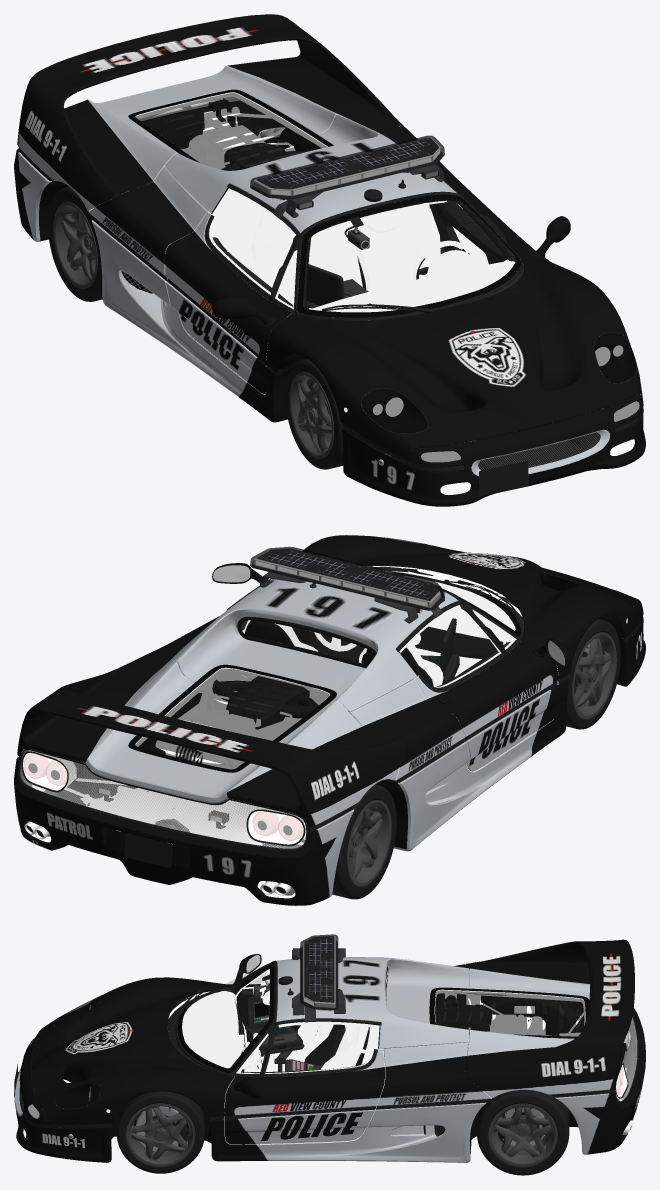
The model's file is patrulha.glb.
The picture shows the model from 3 angles, top to bottom: view 1: azimuth 30°, elevation 25°; view 2: azimuth 150°, elevation 25°; view 3: azimuth 270°, elevation 25°; orthographic projection. The views are drawn at different scales.
Parts seen in each view (by area): view 1: f50:cop_ferrari_f50_1995_enforcer_Mesh_lod0M_Paint_Carbon_Hi, f50:cop_ferrari_f50_1995_enforcer_Mesh_lod0M_Internal_Engine, f50:cop_ferrari_f50_1995_enforcer_Mesh_lod0M_Opaque_PlasticS, f50:cop_ferrari_f50_1995_enforcer_Mesh_lod0M_Glass_Lights_Hi, f50:cop_ferrari_f50_1995_enforcer_Mesh_lod0M_Rim_High_rim_0, f50:cop_ferrari_f50_1995_enforcer_Mesh_lod0M_CarbonB_High_ca, f50:cop_ferrari_f50_1995_enforcer_Mesh_lod0M_Glass_Mirrors_H, f50:cop_ferrari_f50_1995_enforcer_Mesh_lod0M_CopProps_High_c, f50:M_Tire_Highcop_ferrari_f50_1995_enforcer_Mesh_lod0_tire_, f50:cop_ferrari_f50_1995_enforcer_Mesh_lod0M_Chassis_High_ch, f50:cop_ferrari_f50_1995_enforcer_Mesh_lod0M_LightRefracted_, f50:cop_ferrari_f50_1995_enforcer_Mesh_lod0M_CopLights_High_; view 2: f50:cop_ferrari_f50_1995_enforcer_Mesh_lod0M_Paint_Carbon_Hi, f50:cop_ferrari_f50_1995_enforcer_Mesh_lod0M_Internal_Engine, f50:cop_ferrari_f50_1995_enforcer_Mesh_lod0M_Opaque_PlasticS, f50:cop_ferrari_f50_1995_enforcer_Mesh_lod0M_Glass_Lights_Hi, f50:cop_ferrari_f50_1995_enforcer_Mesh_lod0M_CarbonB_High_ca, f50:cop_ferrari_f50_1995_enforcer_Mesh_lod0M_GrilleA_High_gr, f50:cop_ferrari_f50_1995_enforcer_Mesh_lod0M_Rim_High_rim_0, f50:M_Tire_Highcop_ferrari_f50_1995_enforcer_Mesh_lod0_tire_, f50:cop_ferrari_f50_1995_enforcer_Mesh_lod0M_Glass_Mirrors_H (×2), f50:cop_ferrari_f50_1995_enforcer_Mesh_lod0M_CopProps_High_c, f50:cop_ferrari_f50_1995_enforcer_Mesh_lod0M_Chassis_High_ch, f50:cop_ferrari_f50_1995_enforcer_Mesh_lod0M_LightCluster_Hi (+2 smaller); view 3: f50:cop_ferrari_f50_1995_enforcer_Mesh_lod0M_Paint_Carbon_Hi, f50:cop_ferrari_f50_1995_enforcer_Mesh_lod0M_Internal_Engine, f50:cop_ferrari_f50_1995_enforcer_Mesh_lod0M_Opaque_PlasticS, f50:cop_ferrari_f50_1995_enforcer_Mesh_lod0M_Glass_Lights_Hi, f50:cop_ferrari_f50_1995_enforcer_Mesh_lod0M_Rim_High_rim_0, f50:cop_ferrari_f50_1995_enforcer_Mesh_lod0M_CarbonB_High_ca, f50:M_Tire_Highcop_ferrari_f50_1995_enforcer_Mesh_lod0_tire_, f50:cop_ferrari_f50_1995_enforcer_Mesh_lod0M_CopProps_High_c, f50:cop_ferrari_f50_1995_enforcer_Mesh_lod0M_Glass_Mirrors_H, f50:cop_ferrari_f50_1995_enforcer_Mesh_lod0M_Chassis_High_ch, f50:cop_ferrari_f50_1995_enforcer_Mesh_lod0M_BrakeDisc_High_, f50:cop_ferrari_f50_1995_enforcer_Mesh_lod0M_GrilleA_High_gr.
Boxes of the visible parts, box(x1,y1,x2,y2) form: f50:cop_ferrari_f50_1995_enforcer_Mesh_lod0M_Paint_Carbon_Hi: box(14, 14, 645, 506); f50:cop_ferrari_f50_1995_enforcer_Mesh_lod0M_Internal_Engine: box(89, 92, 640, 494); f50:cop_ferrari_f50_1995_enforcer_Mesh_lod0M_Opaque_PlasticS: box(18, 89, 640, 495); f50:cop_ferrari_f50_1995_enforcer_Mesh_lod0M_Glass_Lights_Hi: box(136, 93, 639, 464); f50:cop_ferrari_f50_1995_enforcer_Mesh_lod0M_Rim_High_rim_0: box(53, 202, 333, 458); f50:cop_ferrari_f50_1995_enforcer_Mesh_lod0M_CarbonB_High_ca: box(39, 127, 524, 320); f50:cop_ferrari_f50_1995_enforcer_Mesh_lod0M_Glass_Mirrors_H: box(128, 89, 520, 317); f50:cop_ferrari_f50_1995_enforcer_Mesh_lod0M_CopProps_High_c: box(220, 117, 440, 464); f50:M_Tire_Highcop_ferrari_f50_1995_enforcer_Mesh_lod0_tire_: box(48, 186, 343, 469); f50:cop_ferrari_f50_1995_enforcer_Mesh_lod0M_Chassis_High_ch: box(39, 134, 605, 470); f50:cop_ferrari_f50_1995_enforcer_Mesh_lod0M_LightRefracted_: box(386, 347, 639, 462); f50:cop_ferrari_f50_1995_enforcer_Mesh_lod0M_CopLights_High_: box(271, 149, 439, 199); f50:cop_ferrari_f50_1995_enforcer_Mesh_lod0M_Paint_Carbon_Hi: box(14, 535, 645, 905); f50:cop_ferrari_f50_1995_enforcer_Mesh_lod0M_Internal_Engine: box(22, 566, 558, 898); f50:cop_ferrari_f50_1995_enforcer_Mesh_lod0M_Opaque_PlasticS: box(18, 548, 640, 895); f50:cop_ferrari_f50_1995_enforcer_Mesh_lod0M_Glass_Lights_Hi: box(28, 536, 640, 842); f50:cop_ferrari_f50_1995_enforcer_Mesh_lod0M_CarbonB_High_ca: box(44, 566, 559, 848); f50:cop_ferrari_f50_1995_enforcer_Mesh_lod0M_GrilleA_High_gr: box(20, 750, 306, 848); f50:cop_ferrari_f50_1995_enforcer_Mesh_lod0M_Rim_High_rim_0: box(347, 632, 616, 886); f50:M_Tire_Highcop_ferrari_f50_1995_enforcer_Mesh_lod0_tire_: box(332, 618, 620, 899); f50:cop_ferrari_f50_1995_enforcer_Mesh_lod0M_Glass_Mirrors_H (×2): box(128, 565, 565, 772); f50:cop_ferrari_f50_1995_enforcer_Mesh_lod0M_CopProps_High_c: box(109, 549, 640, 826); f50:cop_ferrari_f50_1995_enforcer_Mesh_lod0M_Chassis_High_ch: box(27, 615, 622, 895); f50:cop_ferrari_f50_1995_enforcer_Mesh_lod0M_LightCluster_Hi: box(23, 618, 627, 844); f50:cop_ferrari_f50_1995_enforcer_Mesh_lod0M_Paint_Carbon_Hi: box(14, 939, 645, 1162); f50:cop_ferrari_f50_1995_enforcer_Mesh_lod0M_Internal_Engine: box(23, 969, 626, 1144); f50:cop_ferrari_f50_1995_enforcer_Mesh_lod0M_Opaque_PlasticS: box(14, 936, 638, 1144); f50:cop_ferrari_f50_1995_enforcer_Mesh_lod0M_Glass_Lights_Hi: box(27, 934, 584, 1137); f50:cop_ferrari_f50_1995_enforcer_Mesh_lod0M_Rim_High_rim_0: box(126, 1103, 557, 1166); f50:cop_ferrari_f50_1995_enforcer_Mesh_lod0M_CarbonB_High_ca: box(167, 964, 582, 1115); f50:M_Tire_Highcop_ferrari_f50_1995_enforcer_Mesh_lod0_tire_: box(116, 1090, 569, 1175); f50:cop_ferrari_f50_1995_enforcer_Mesh_lod0M_CopProps_High_c: box(68, 936, 341, 1137); f50:cop_ferrari_f50_1995_enforcer_Mesh_lod0M_Glass_Mirrors_H: box(177, 962, 589, 1072); f50:cop_ferrari_f50_1995_enforcer_Mesh_lod0M_Chassis_High_ch: box(19, 1016, 578, 1155); f50:cop_ferrari_f50_1995_enforcer_Mesh_lod0M_BrakeDisc_High_: box(136, 1106, 544, 1151); f50:cop_ferrari_f50_1995_enforcer_Mesh_lod0M_GrilleA_High_gr: box(616, 1017, 637, 1101).
Size of the model in its own units: 0.023 by 0.0119 by 0.045.
Materials: 21 (20 with a texture image).
